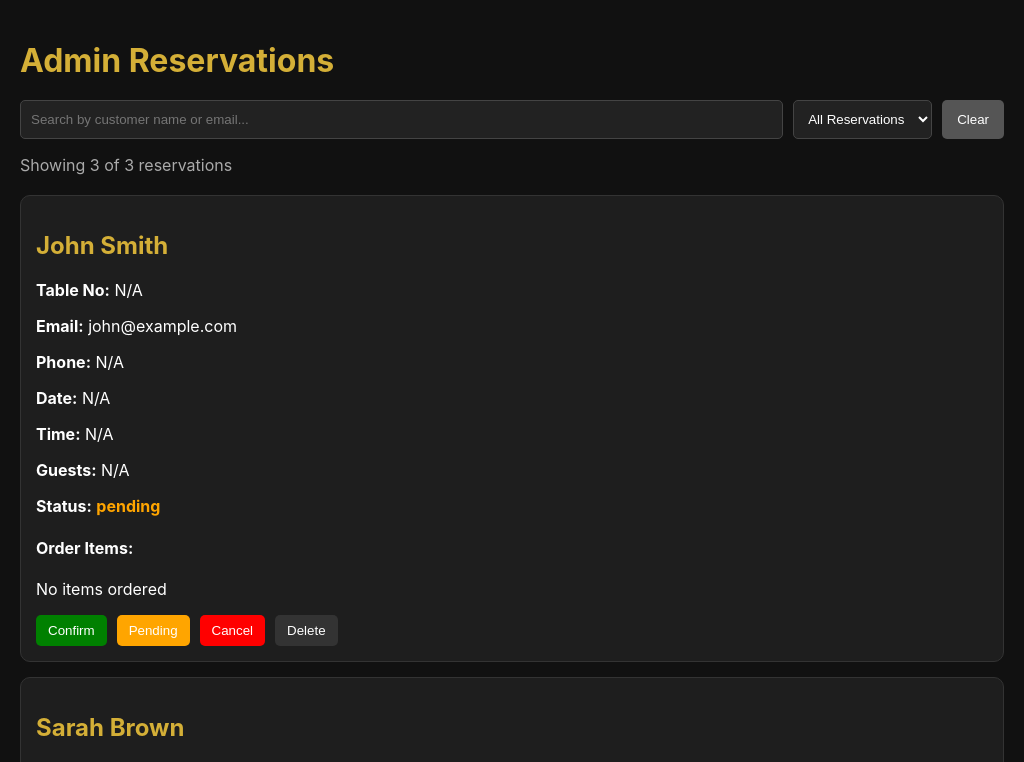
Test: filters reservations by pending status
This screenshot has width=1024, height=762.
expect the heading "John Smith" is shown: met, box [36,231,168,260]
Select "Pending" in the dropdown showing "All Reservations" at {"x": 863, "y": 120}, box [793,100,932,139]
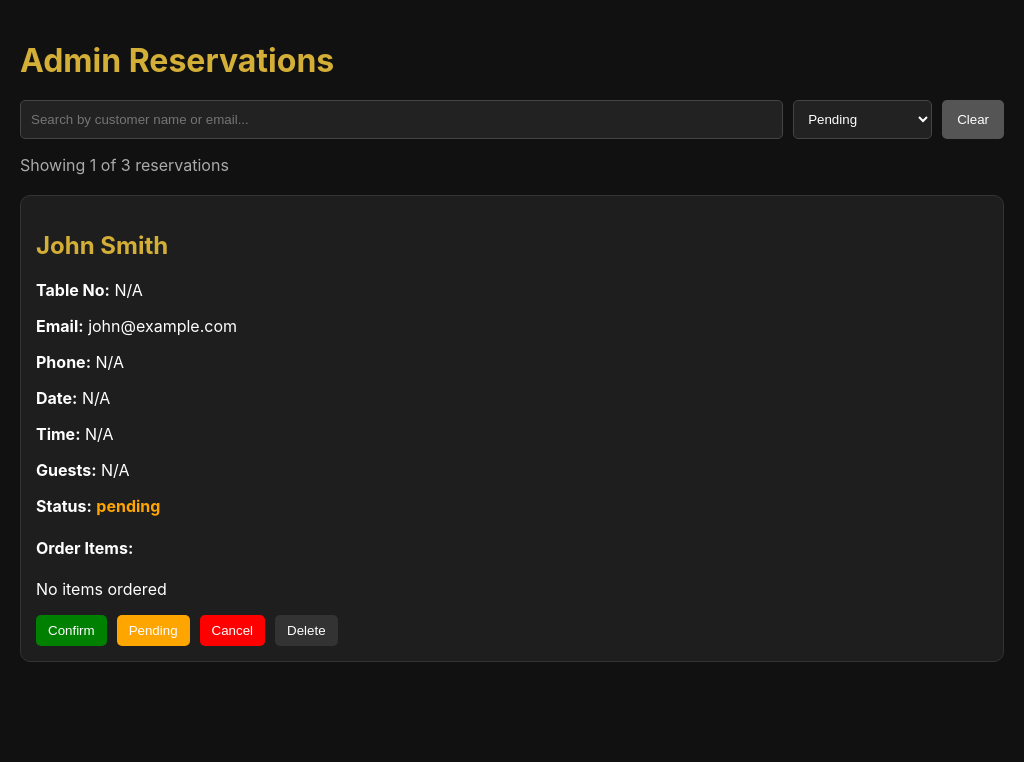
expect the heading "John Smith" is shown: met, box [36,231,168,260]
expect the heading "Sarah Brown" is gone: met
